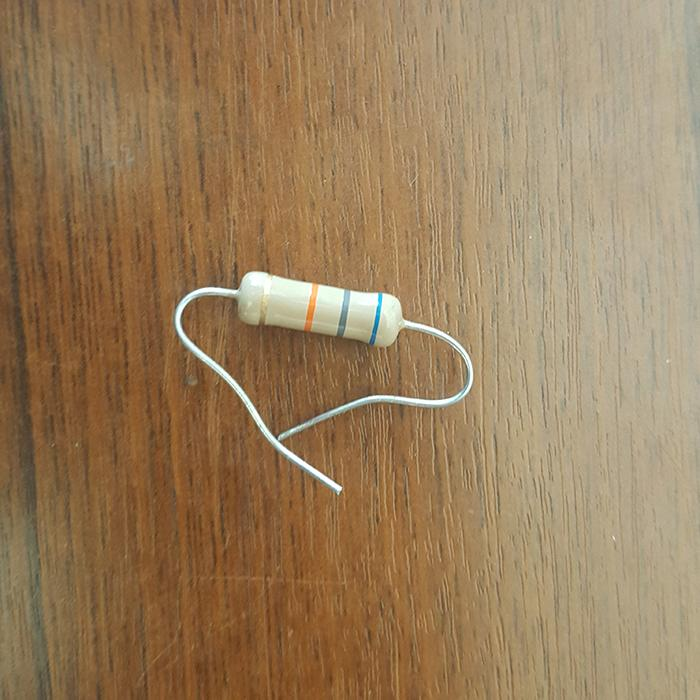resistor: (233, 271, 405, 346)
